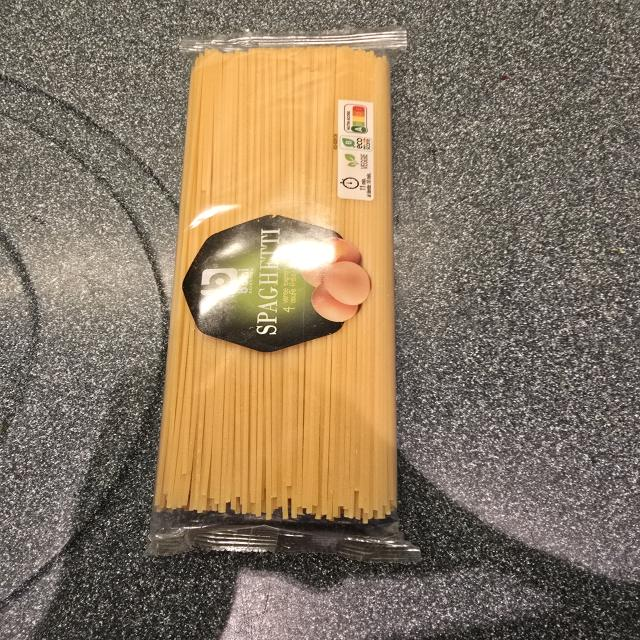Pasta: (146, 31, 420, 563)
